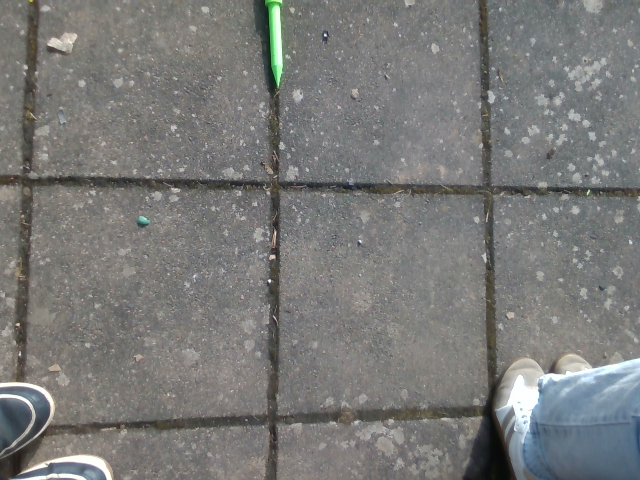Probe: (260, 1, 288, 95)
